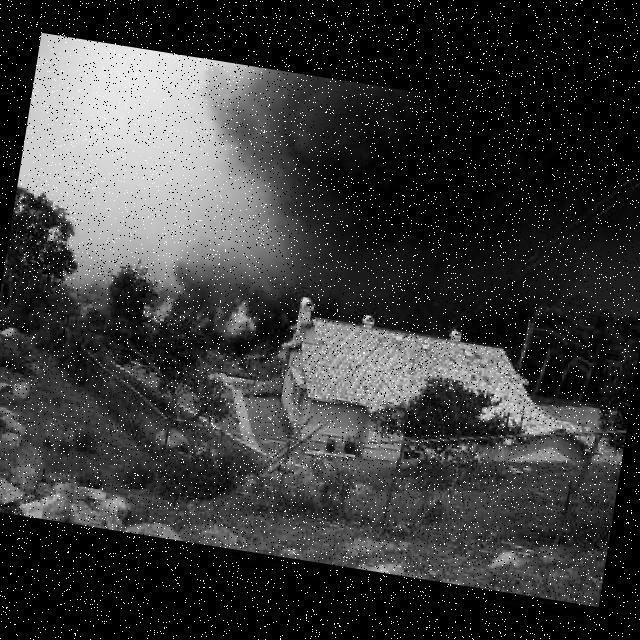Fire: (135, 274, 264, 358)
Smoke: (174, 57, 620, 336)
